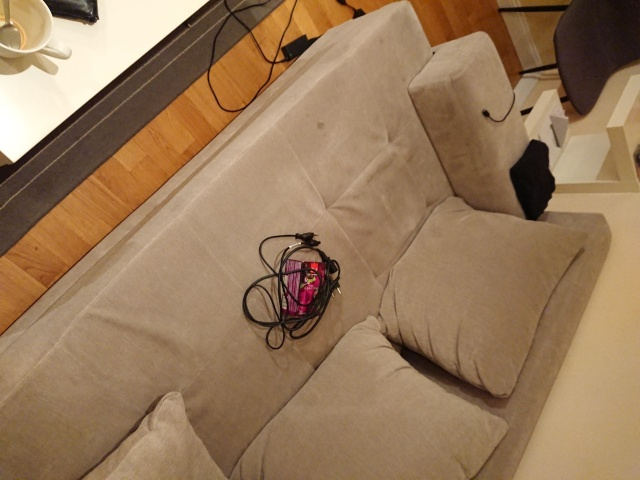Franck Black Currant Tea 60g: (277, 256, 328, 319)
